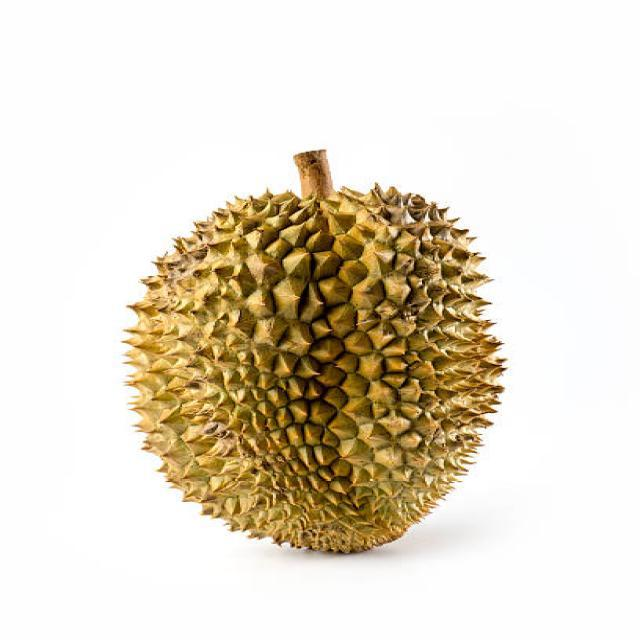mature: (128, 186, 502, 552)
